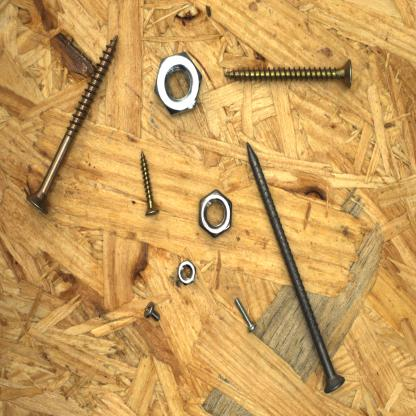screw: (246, 140, 346, 396), (24, 33, 120, 216), (222, 57, 355, 91), (138, 148, 161, 220), (233, 296, 258, 335), (141, 297, 162, 326)
